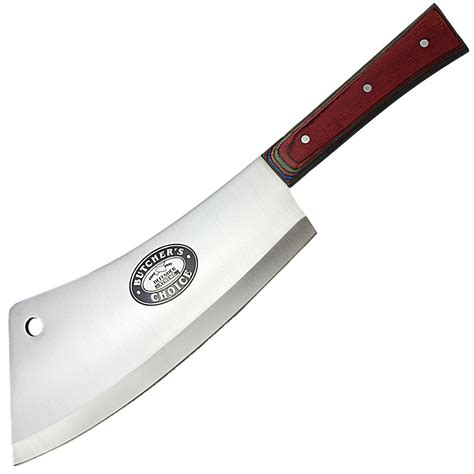knife: (13, 4, 469, 469)
